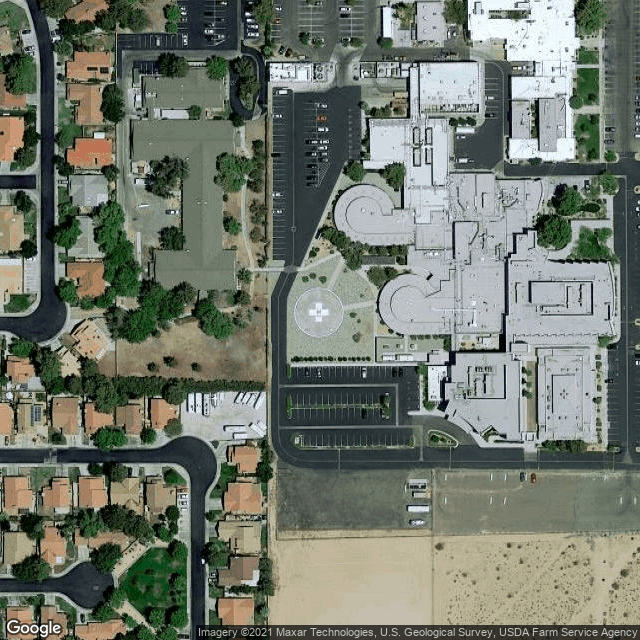Helipad: (294, 287, 344, 340)
